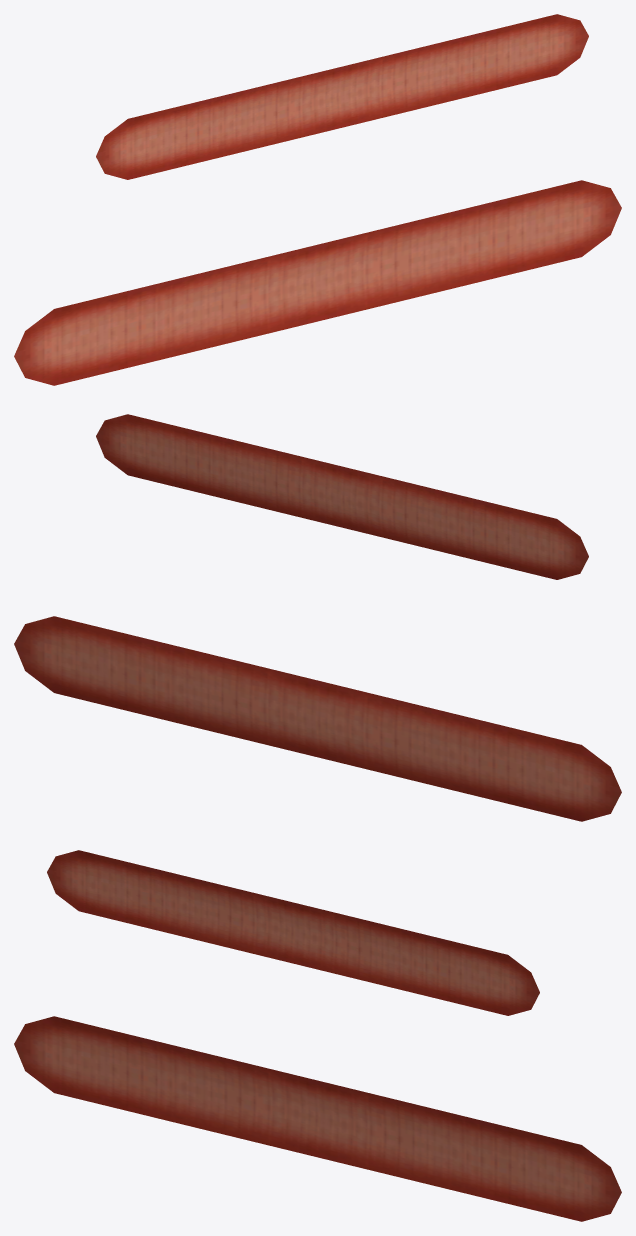
File: vt49_engine_s01_on_l1.fbx
3 renders of one model, top to bottom at view 1: azimuth 30°, elevation 25°; view 2: azimuth 150°, elevation 25°; view 3: azimuth 330°, elevation 25°, orthographic.
Visible parts, largest first — view 1: mesh_node; view 2: mesh_node; view 3: mesh_node.
Boxes of the visible parts, bbox=[...] form: mesh_node: bbox=[14, 14, 621, 385]; mesh_node: bbox=[14, 414, 621, 821]; mesh_node: bbox=[14, 850, 621, 1221].
Size of the model in its own units: 9.75 by 4.18 by 0.75.
Materials: 1 (1 with a texture image).
